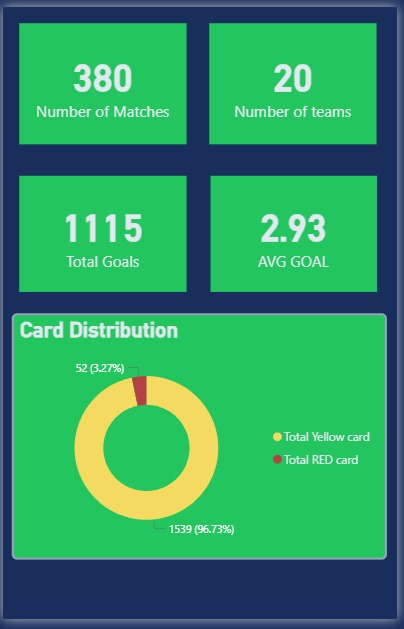

The dashboard page shown, as its layout file describes it:
{"tool":"powerbi","page":{"name":"Page 1","canvas":[450,700],"ordinal":0},"visuals":[{"type":"card","fields":{"Values":["CountNonNull(E0_analusis.HomeTeam)"]},"box":[18.6,18.6,191.4,138.6],"z":0},{"type":"card","fields":{"Values":["Count(E0_analusis.HomeTeam)"]},"box":[235.7,18.6,191.4,138.6],"z":1000},{"type":"card","fields":{"Values":["Count(E0_analusis.Referee)"]},"box":[1004.3,18.6,221.4,138.6],"z":2000},{"type":"card","fields":{"Values":["E0_analusis.AVG GOAL"]},"box":[237.1,192.9,190,132.9],"z":3000},{"type":"card","fields":{"Values":["E0_analusis.Total Goals"]},"box":[18.6,192.9,191.4,132.9],"z":4000},{"type":"donutChart","title":"Card Distribution","fields":{"Y":["E0_analusis.sum of yellow card","E0_analusis.Total RED card"]},"box":[10,350,428.6,281.4],"z":5000}]}

Visuals, with their boxes in screenshot pixels (x1, y1, x2, y2), scaled from the page's 450x700 canvas onto the 404x629 screenshot:
card - CountNonNull(E0_analusis.HomeTeam): <box>17,17,189,141</box>
card - Count(E0_analusis.HomeTeam): <box>212,17,383,141</box>
card - E0_analusis.AVG GOAL: <box>213,173,383,293</box>
card - E0_analusis.Total Goals: <box>17,173,189,293</box>
"Card Distribution" donutChart: <box>9,314,394,567</box>
